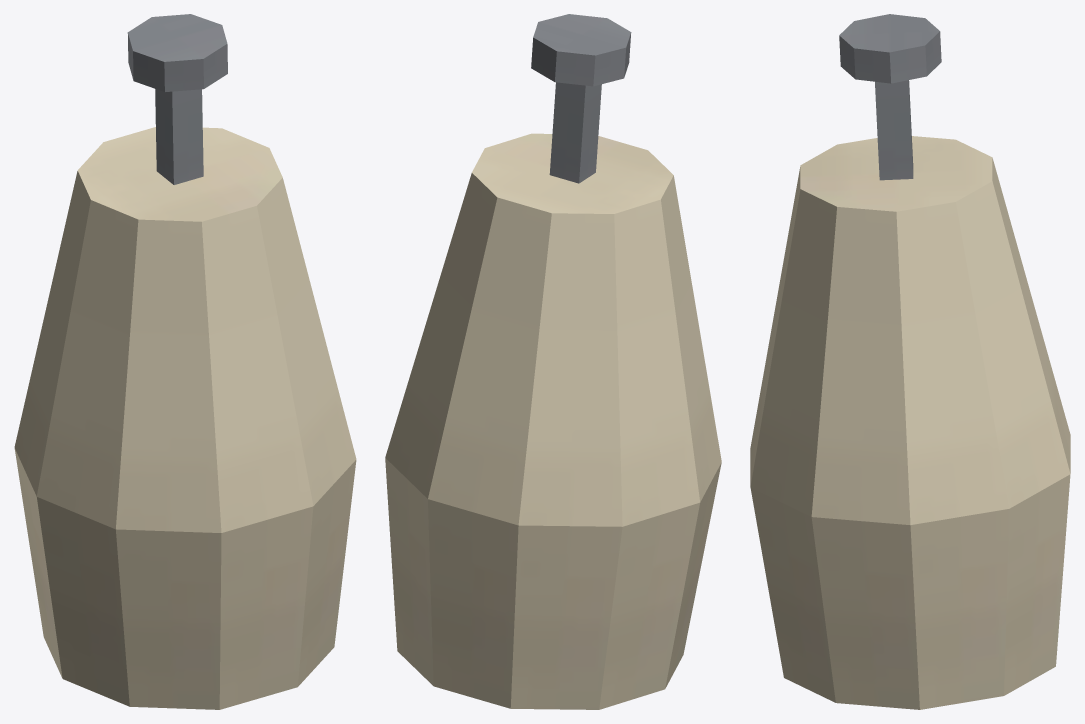
Rendered from harbour.buoy.glb.
3 views of the same model, side by side, from view 1: azimuth 30°, elevation 25°; view 2: azimuth 150°, elevation 25°; view 3: azimuth 270°, elevation 25° (orthographic). The views are drawn at different scales.
Parts seen in each view (by area): view 1: town.harbour.buoy; view 2: town.harbour.buoy; view 3: town.harbour.buoy.
Boxes of the visible parts, box(x1,y1,x2,y2) form: town.harbour.buoy: box(14, 14, 356, 709); town.harbour.buoy: box(385, 14, 721, 709); town.harbour.buoy: box(750, 14, 1070, 709).
Bounding box in the file's own units: 0.3996 × 0.8129 × 0.38.
3 materials, 3 textured.
